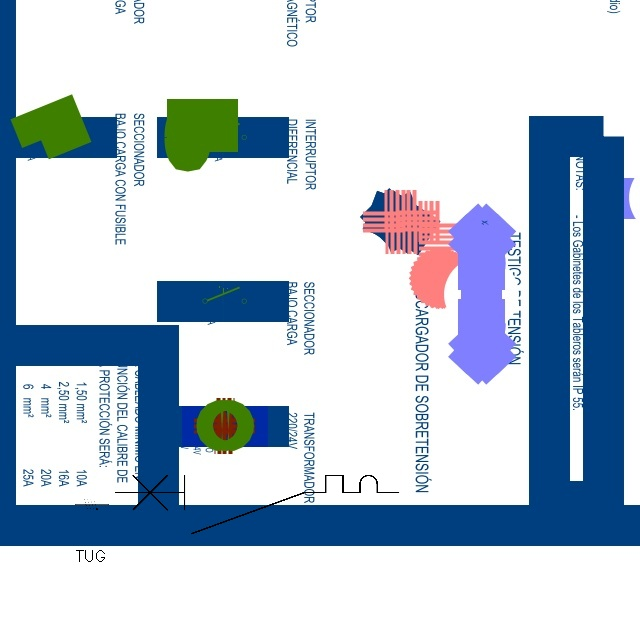interruptor_termomagnetico: (108, 468, 406, 541)
